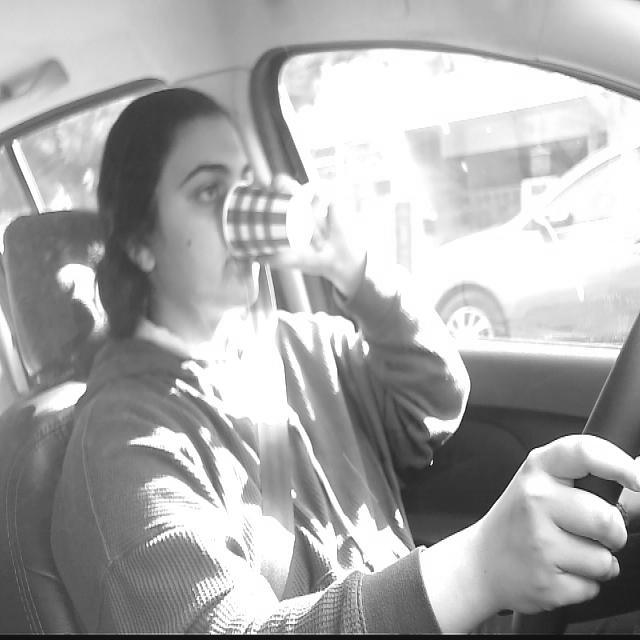Drinking: (216, 178, 337, 261)
